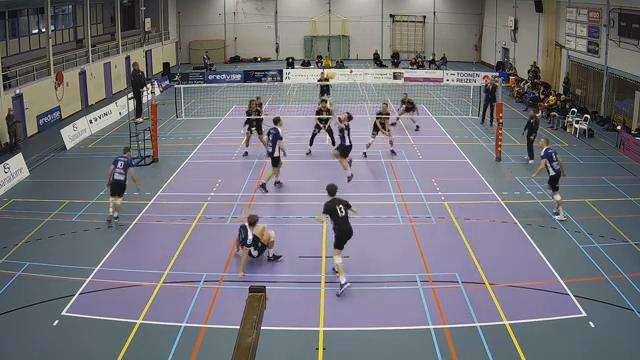Player: (318, 184, 355, 295), (236, 215, 281, 277), (532, 138, 565, 219), (107, 147, 138, 226), (259, 116, 285, 192), (362, 103, 396, 157), (306, 98, 335, 155), (243, 100, 266, 148), (390, 93, 419, 130), (317, 71, 330, 98), (255, 96, 268, 116)
Set: (322, 106, 359, 185)
ball: (325, 69, 337, 81)
